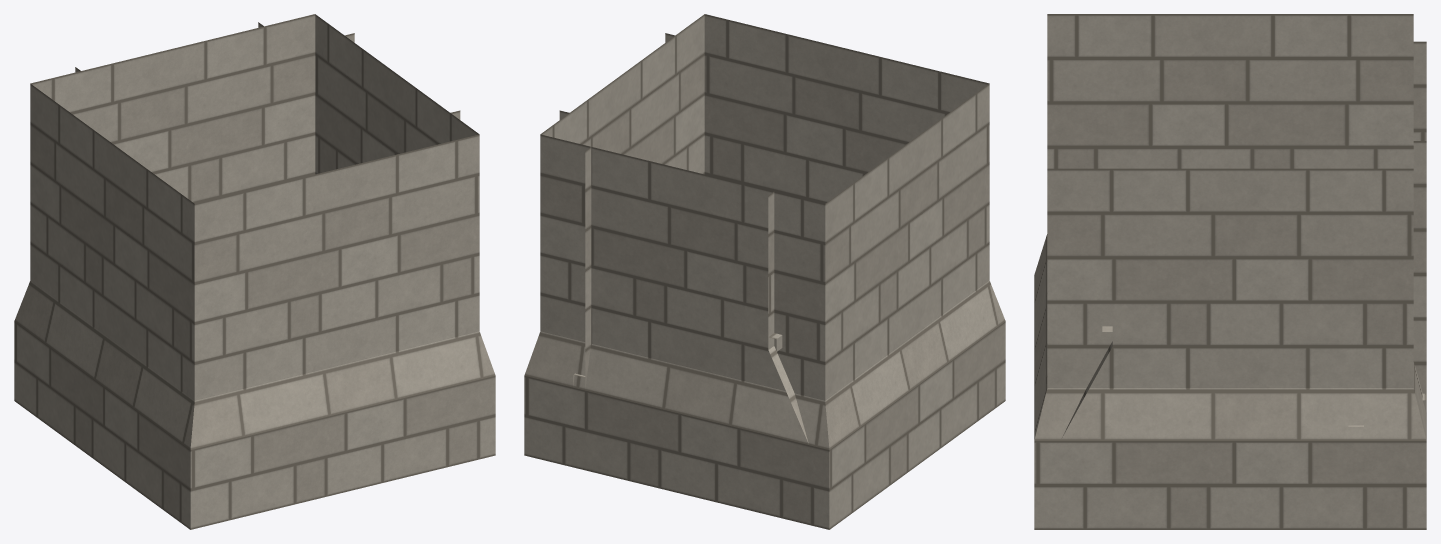
The model's file is Tower_Base_Convex.fbx.
The picture shows the model from 3 angles, left to right: view 1: azimuth 30°, elevation 25°; view 2: azimuth 150°, elevation 25°; view 3: azimuth 270°, elevation 25°; orthographic projection. The views are drawn at different scales.
Parts seen in each view (by area): view 1: Tower_Base_Convex; view 2: Tower_Base_Convex; view 3: Tower_Base_Convex.
Boxes of the visible parts, x1,y1,x2,y2 form: Tower_Base_Convex: (14, 14, 495, 529); Tower_Base_Convex: (524, 14, 1005, 529); Tower_Base_Convex: (1034, 14, 1426, 529).
Bounding box in the file's own units: 3 × 3 × 3.
1 material, 1 textured.
